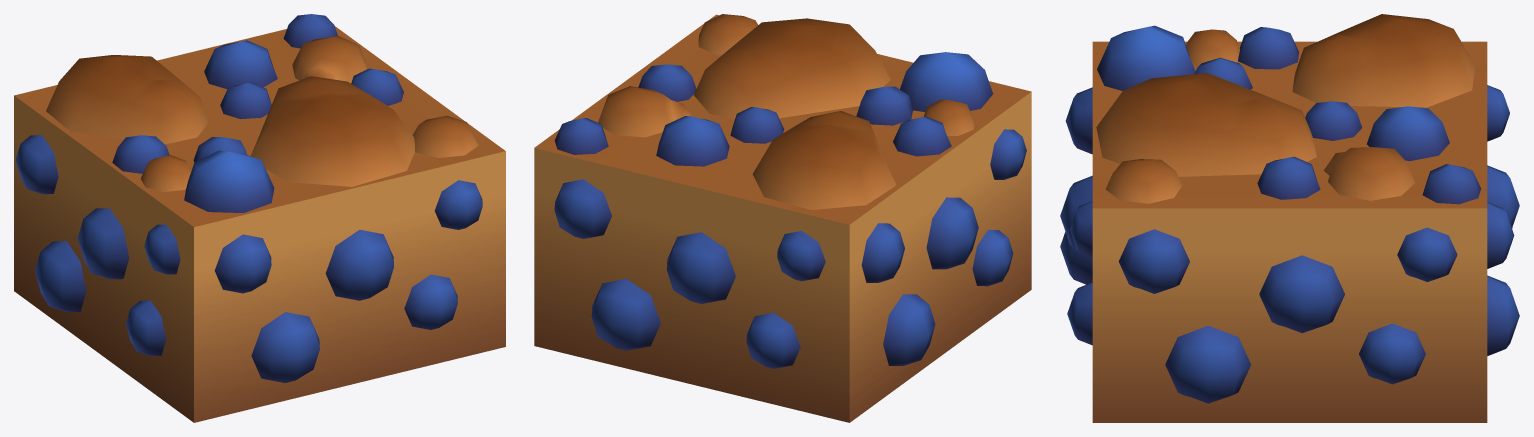
File: m_SheetCake03_Slice03.fbx
3 views of the same model, side by side, from view 1: azimuth 30°, elevation 25°; view 2: azimuth 150°, elevation 25°; view 3: azimuth 270°, elevation 25° (orthographic). The views are drawn at different scales.
Visible parts, largest first — view 1: m_SheetCake03_Slice03; view 2: m_SheetCake03_Slice03; view 3: m_SheetCake03_Slice03.
Boxes of the visible parts, <box> form: m_SheetCake03_Slice03: <box>14,14,505,422</box>; m_SheetCake03_Slice03: <box>534,14,1031,422</box>; m_SheetCake03_Slice03: <box>1060,14,1519,422</box>.
Size of the model in its own units: 11.65 by 7.57 by 11.65.
